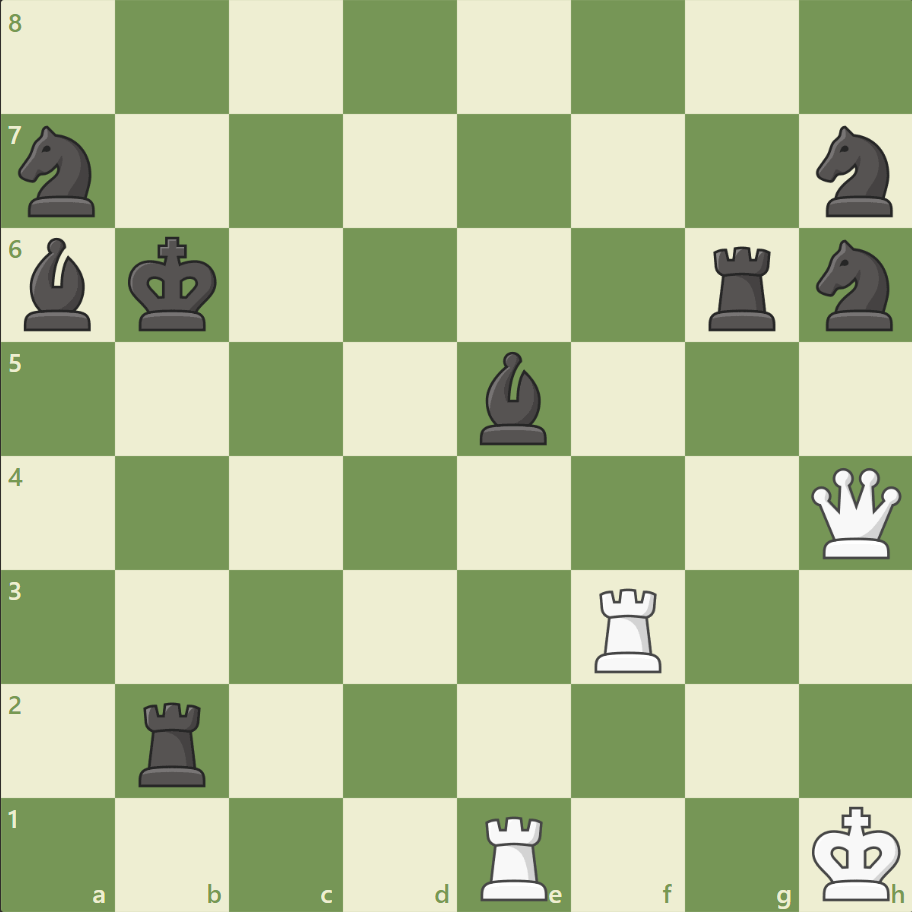K: (806, 798, 906, 906)
Q: (805, 463, 904, 562)
R: (473, 806, 556, 904), (587, 579, 670, 676)
b: (17, 233, 101, 336), (471, 347, 555, 449)
k: (124, 231, 224, 339)
n: (806, 234, 903, 337), (11, 121, 108, 223), (806, 121, 903, 223)
r: (700, 239, 783, 336), (133, 693, 215, 790)
